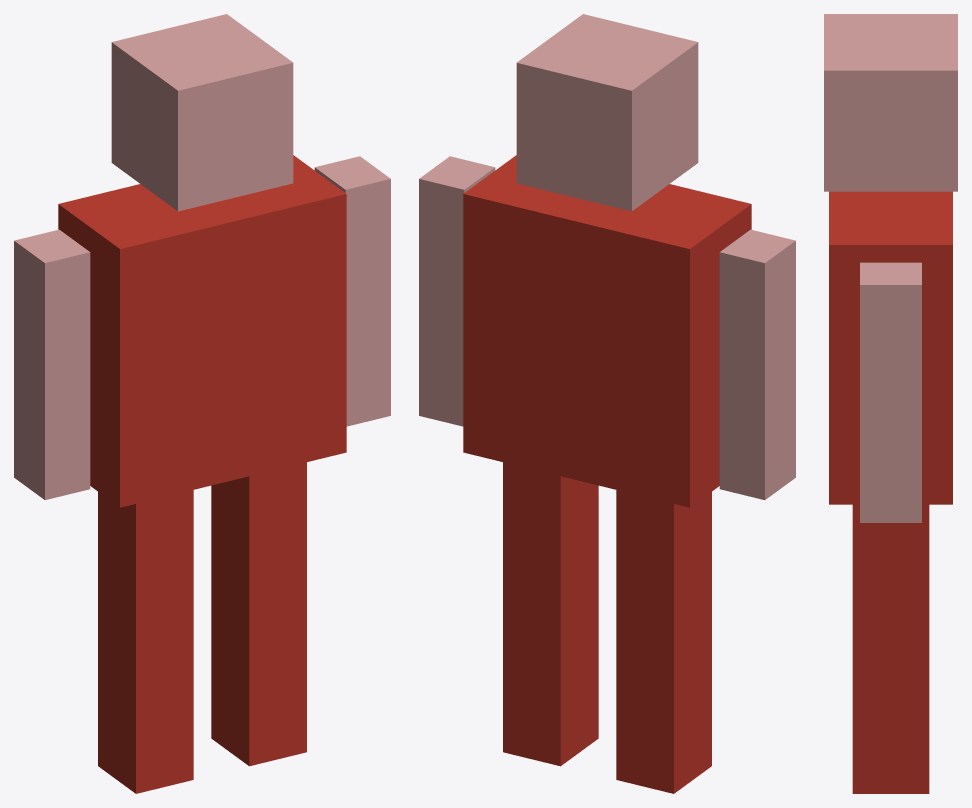
File: vanguard.glb
The picture shows the model from 3 angles, left to right: view 1: azimuth 30°, elevation 25°; view 2: azimuth 150°, elevation 25°; view 3: azimuth 270°, elevation 25°; orthographic projection.
Size of the model in its own units: 0.84 by 1.64 by 0.28.
